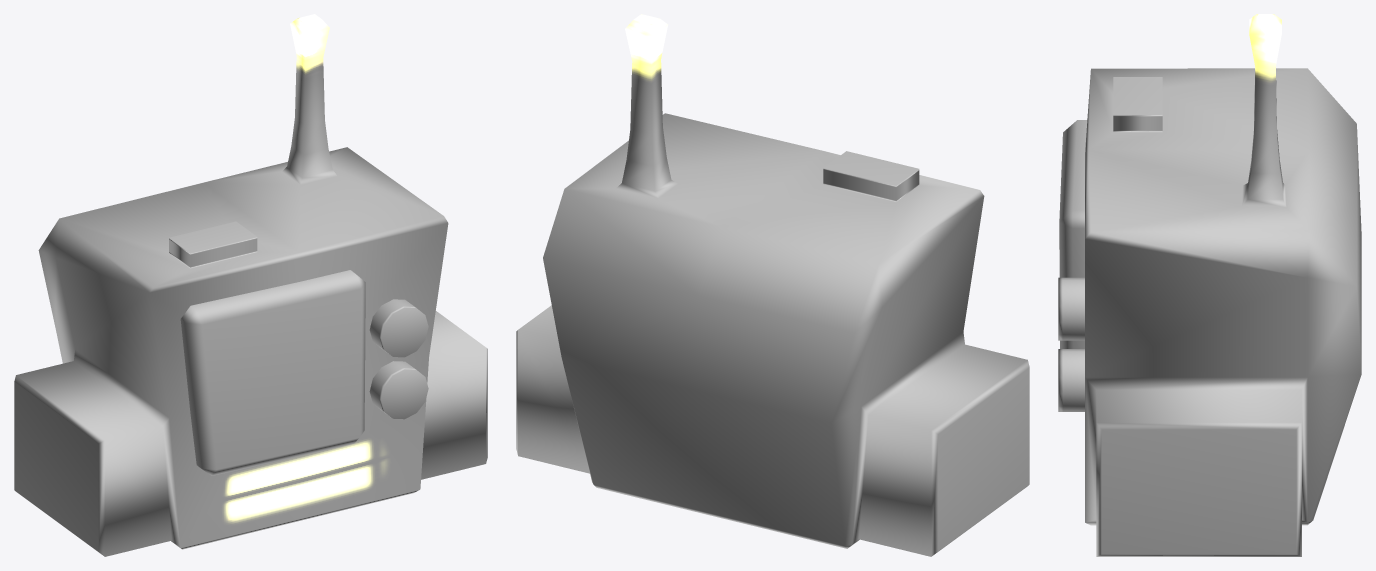
The model's file is Radio_UVedTextured.fbx.
3 views of the same model, side by side, from view 1: azimuth 30°, elevation 25°; view 2: azimuth 150°, elevation 25°; view 3: azimuth 270°, elevation 25° (orthographic). The views are drawn at different scales.
Visible parts, largest first — view 1: pCube3; view 2: pCube3; view 3: pCube3.
Part boxes in pixels (left/top/right/bottom): pCube3: left=14, top=14, right=487, bottom=556; pCube3: left=516, top=14, right=1029, bottom=556; pCube3: left=1058, top=14, right=1361, bottom=556.
Size of the model in its own units: 0.4541 by 0.4742 by 0.2657.
